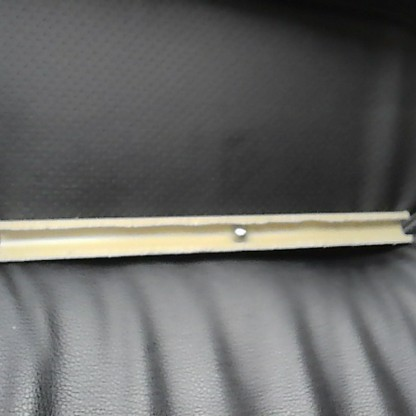ironball: (232, 225, 247, 242)
